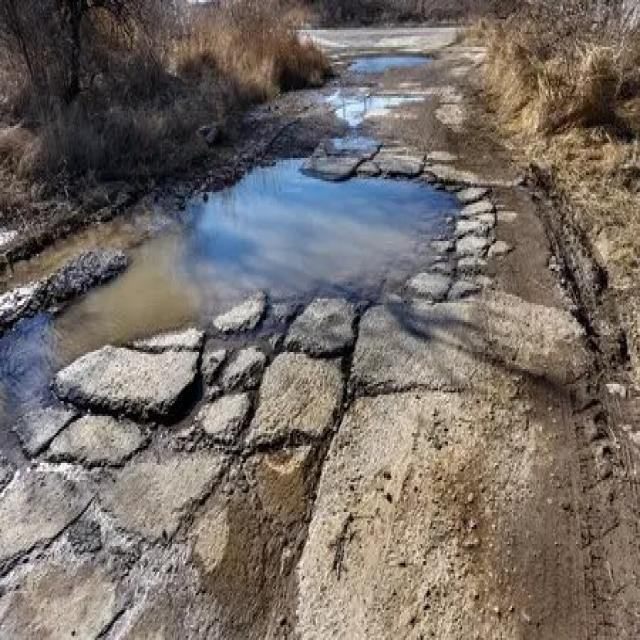pothole: (14, 145, 472, 337), (345, 43, 430, 80)
